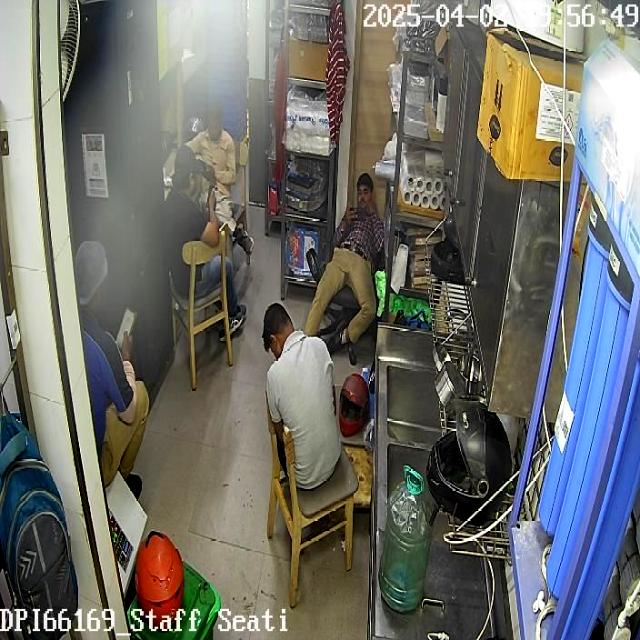helmet: (426, 399, 514, 524), (134, 530, 185, 628), (430, 217, 464, 285), (338, 373, 369, 436)
no_helmet: (73, 239, 109, 314), (263, 302, 294, 359), (171, 146, 204, 196), (356, 174, 374, 209)
